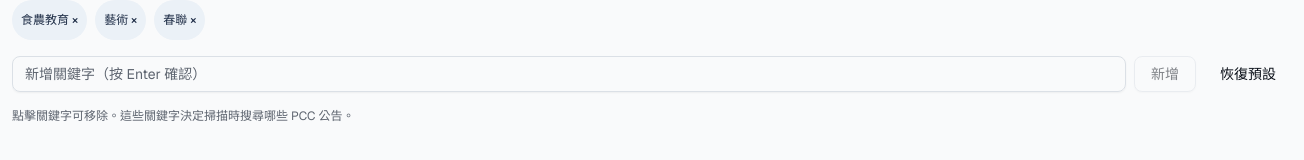
Scenario: KeywordManager › 輸入框有內容時新增按鈕為可點擊
Step 1. Type "測試" into the field with placeholder "新增關鍵字（按 Enter 確認）" → (569,74), box [12,56,1126,92]
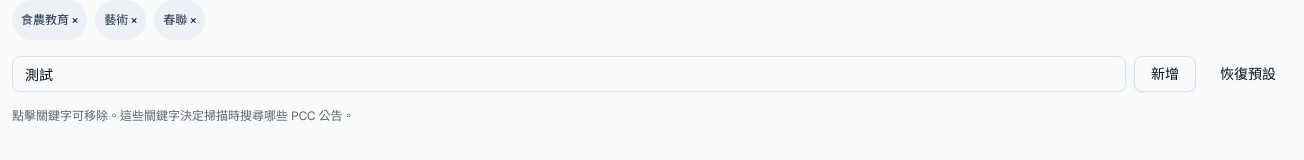
Expected: the button "新增" is enabled, [1134,56,1196,92]
